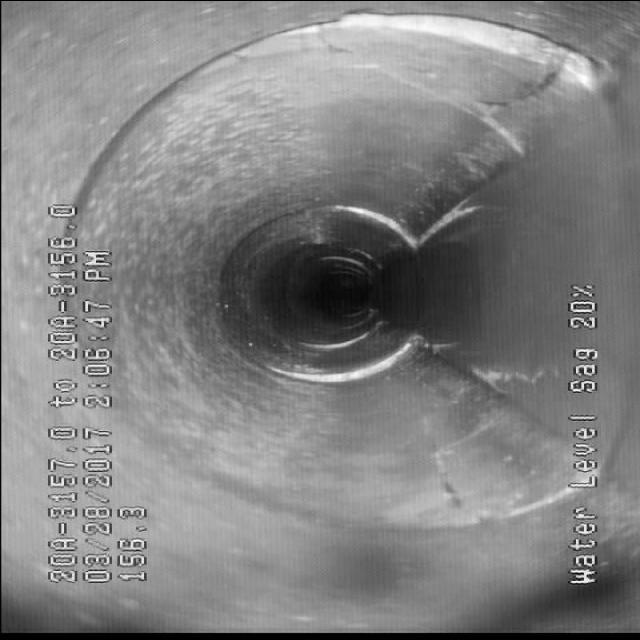Crack: (382, 418, 510, 516)
